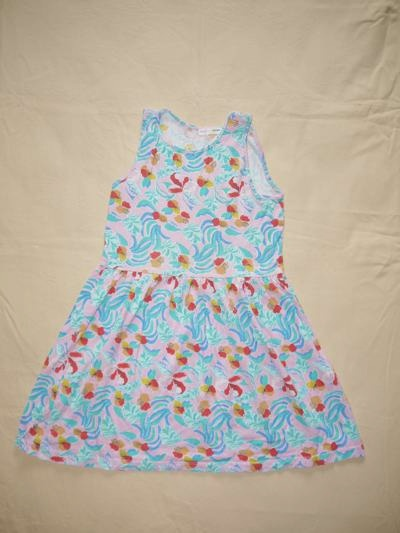Dress: (21, 104, 379, 476)
